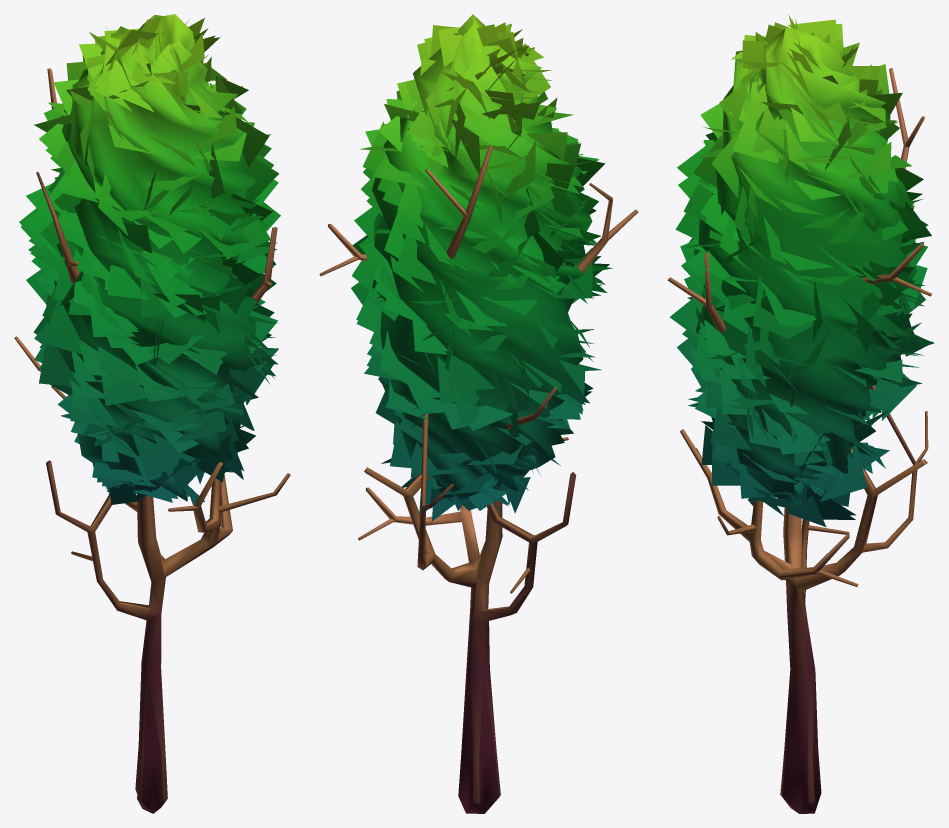
File: Forest_Tree_5B.fbx
3 views of the same model, side by side, from view 1: azimuth 30°, elevation 25°; view 2: azimuth 150°, elevation 25°; view 3: azimuth 270°, elevation 25° (orthographic).
Parts seen in each view (by area): view 1: Forest_Tree_5B; view 2: Forest_Tree_5B; view 3: Forest_Tree_5B.
Boxes of the visible parts, x1,y1,x2,y2 form: Forest_Tree_5B: (14, 14, 290, 813); Forest_Tree_5B: (319, 14, 638, 813); Forest_Tree_5B: (667, 14, 934, 813).
Size of the model in its own units: 252 by 806 by 248.
